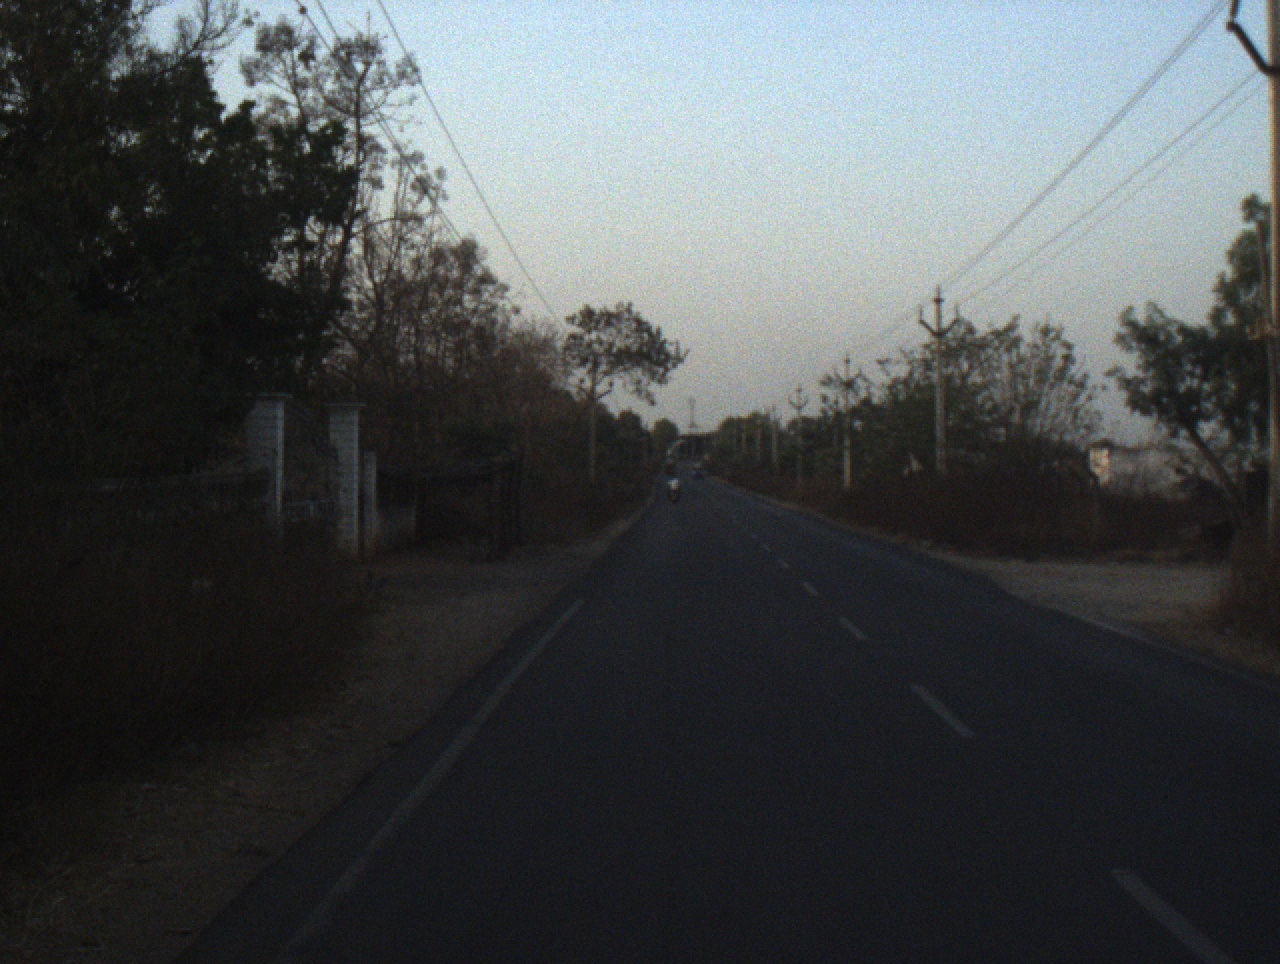autorickshaw: (663, 456, 677, 477)
car: (686, 463, 707, 481)
motorcycle: (666, 488, 682, 505)
rider: (664, 475, 684, 498)
